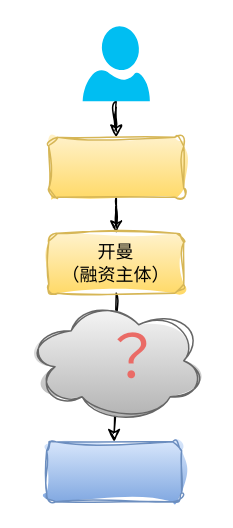
Image size: 233x528. Some labels were removed from this diagram. The box of each missing label's shape, as (x1, y1, x2, y2) in pixels:
BVI、离岸信托 （控制、隐私）: (47, 136, 184, 197)
中国公司 （实际业务）: (45, 440, 182, 502)
